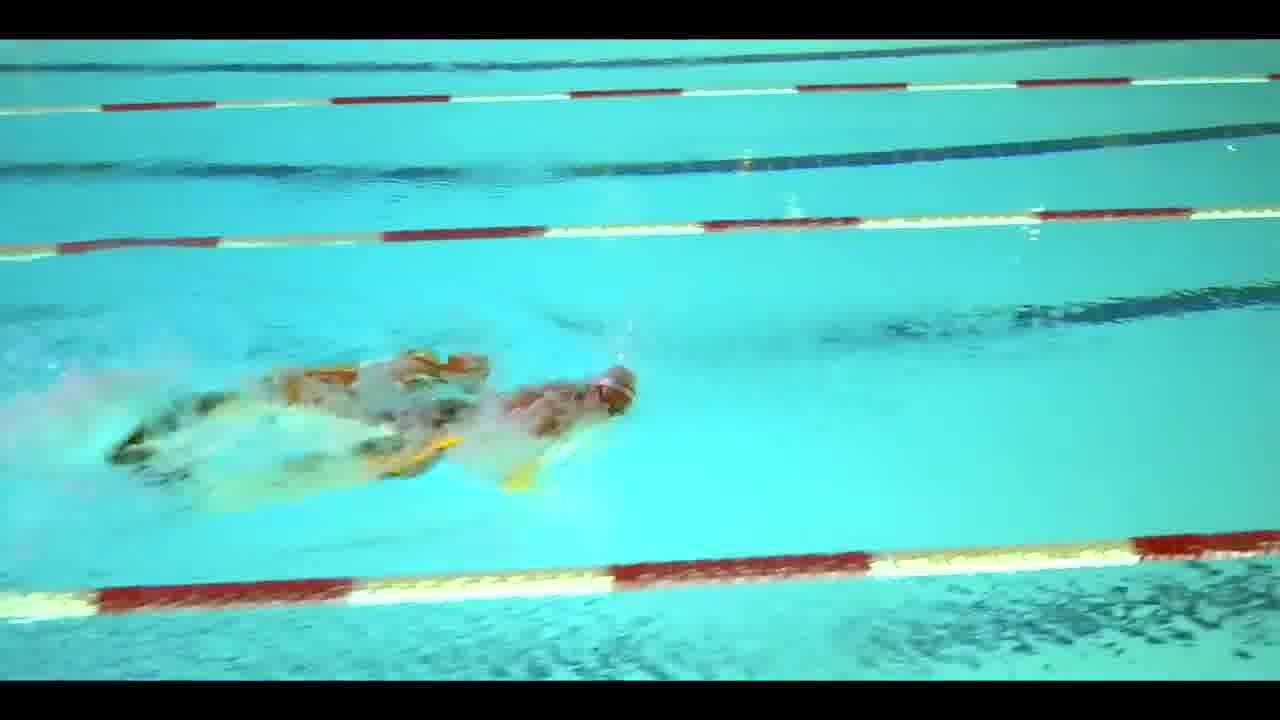swimmer: (394, 354, 681, 463)
